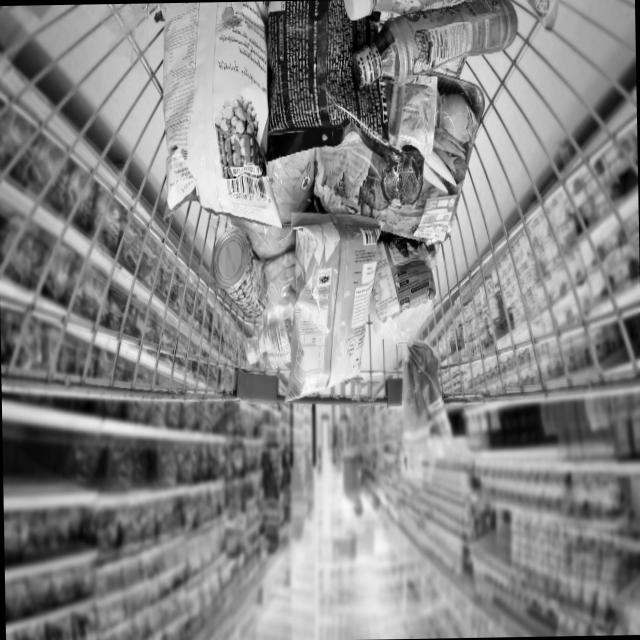bread: (365, 240, 446, 437)
oil: (247, 317, 296, 373)
